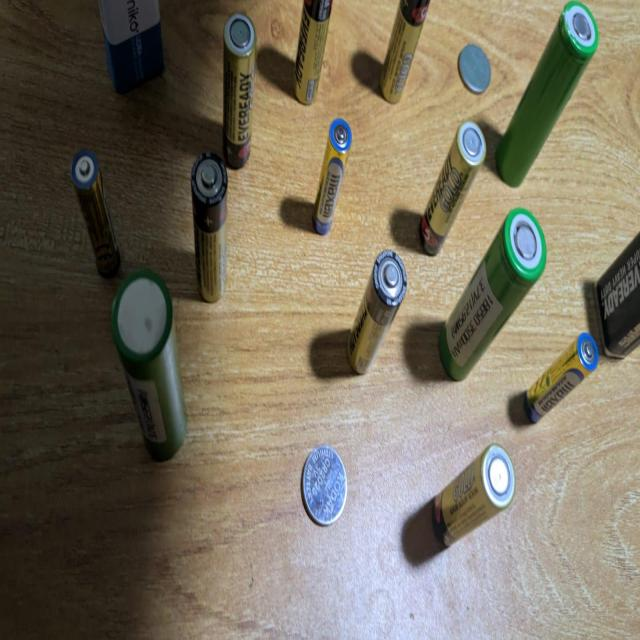9V: (93, 0, 171, 102), (590, 222, 640, 368)
AA: (416, 119, 490, 258), (425, 439, 517, 549), (345, 242, 410, 384), (219, 8, 260, 173), (190, 150, 232, 308), (377, 0, 432, 110), (295, 0, 332, 113)
AAA: (519, 325, 599, 427), (69, 143, 124, 285), (312, 110, 354, 240)
COIN: (300, 439, 350, 532), (454, 37, 494, 98)
